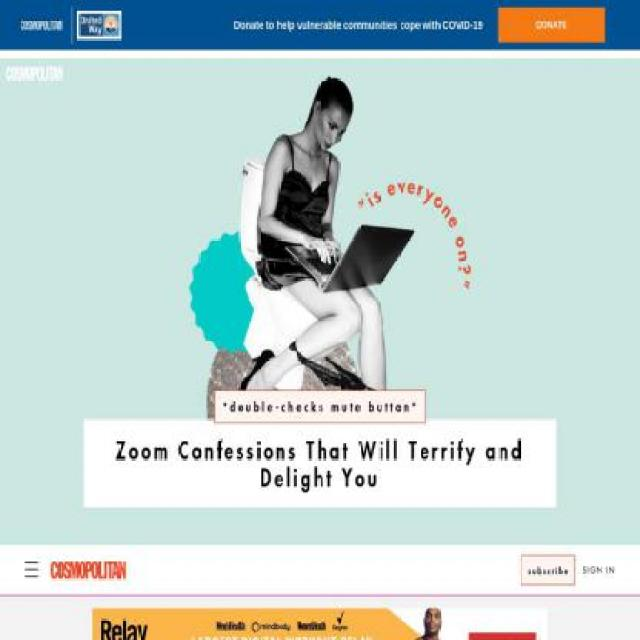button: (0, 59, 640, 546), (497, 7, 606, 42), (51, 559, 126, 583), (520, 554, 575, 586), (501, 16, 602, 33), (6, 66, 63, 80), (582, 564, 616, 578)
